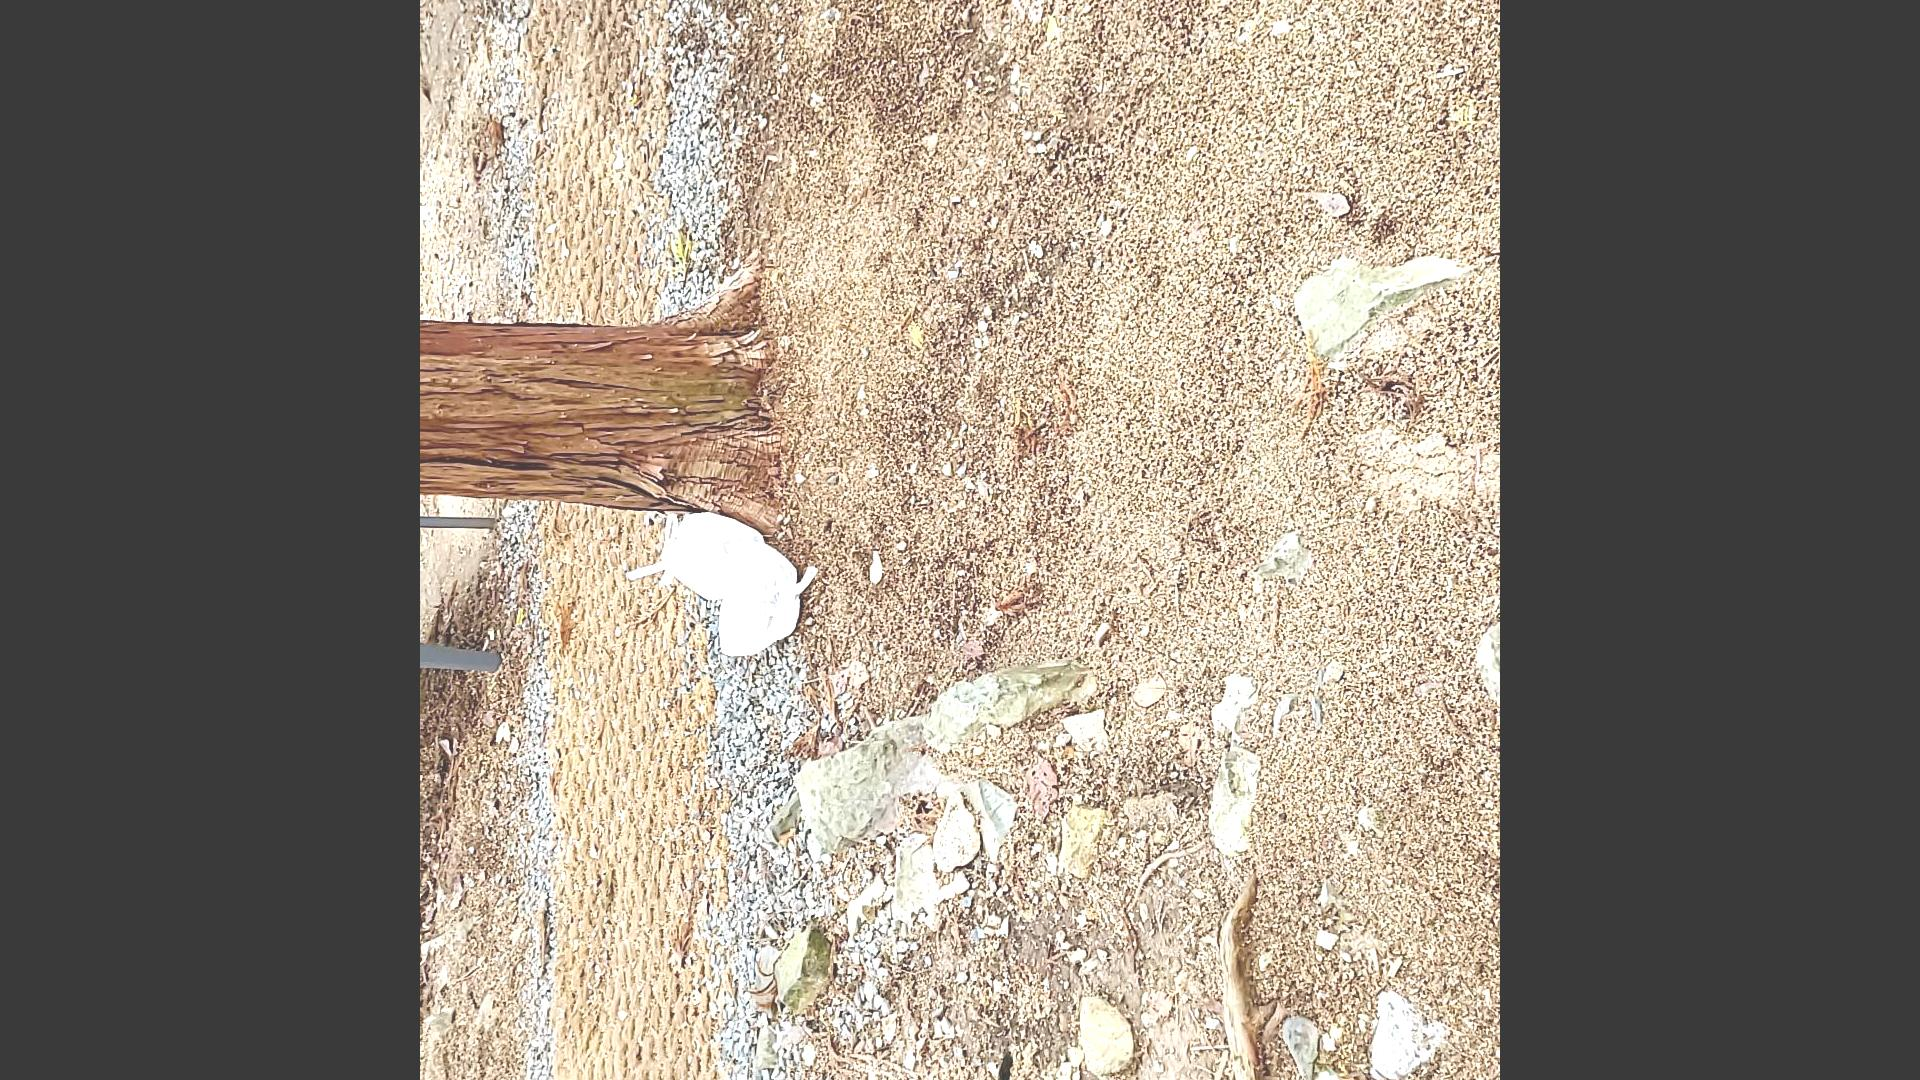white_bag: (617, 500, 770, 603), (716, 535, 819, 663)
